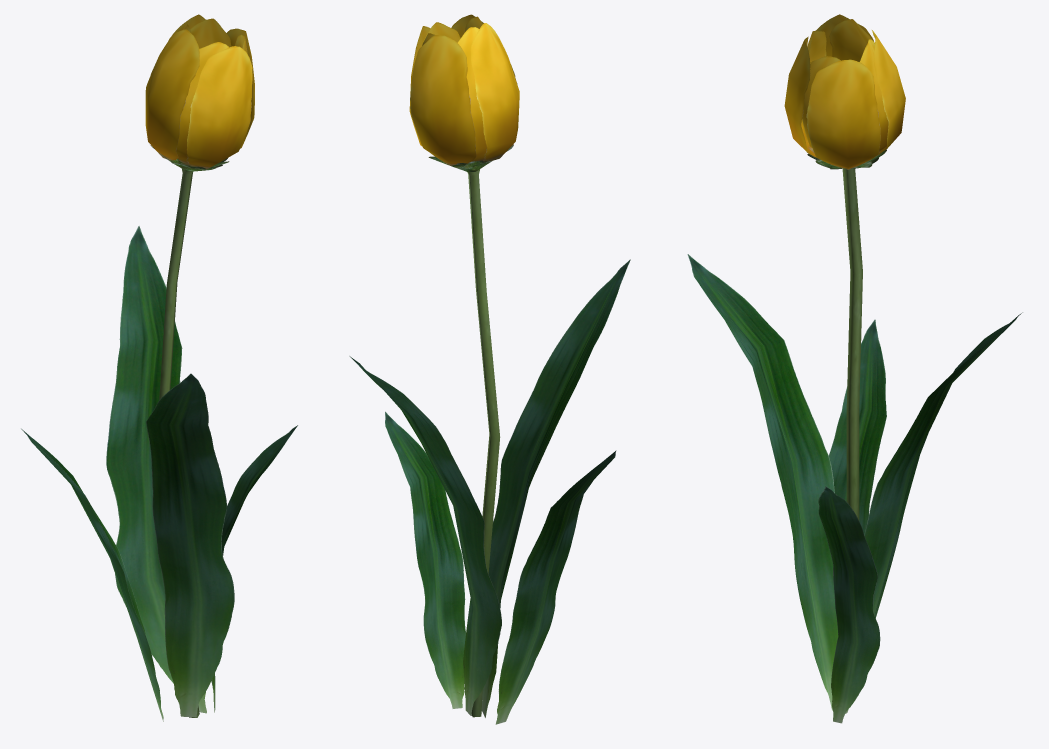
The model's file is Tulip_04.FBX.
3 renders of one model, left to right at view 1: azimuth 30°, elevation 25°; view 2: azimuth 150°, elevation 25°; view 3: azimuth 270°, elevation 25°, orthographic.
Parts seen in each view (by area): view 1: Tulip_04; view 2: Tulip_04; view 3: Tulip_04.
Boxes of the visible parts, x1,y1,x2,y2 form: Tulip_04: [21, 14, 297, 721]; Tulip_04: [349, 14, 630, 724]; Tulip_04: [687, 14, 1022, 723].
Size of the model in its own units: 0.482 by 1.2 by 0.5592.
